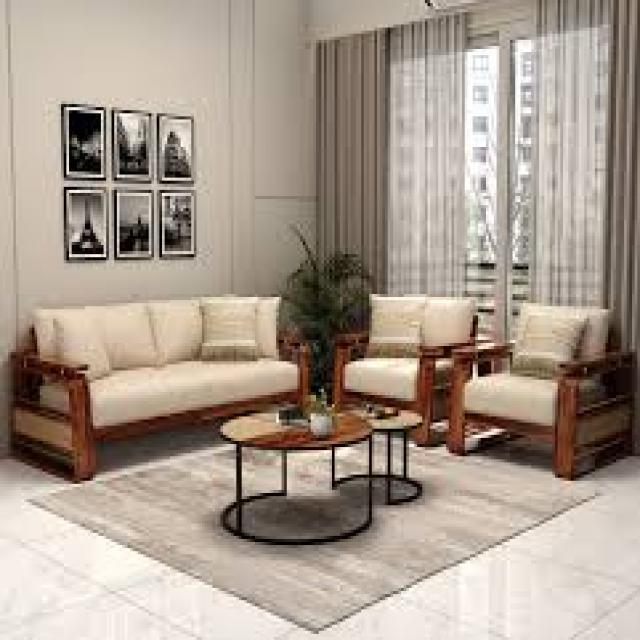sofa: (8, 291, 311, 481), (446, 285, 640, 481), (338, 265, 478, 456)
